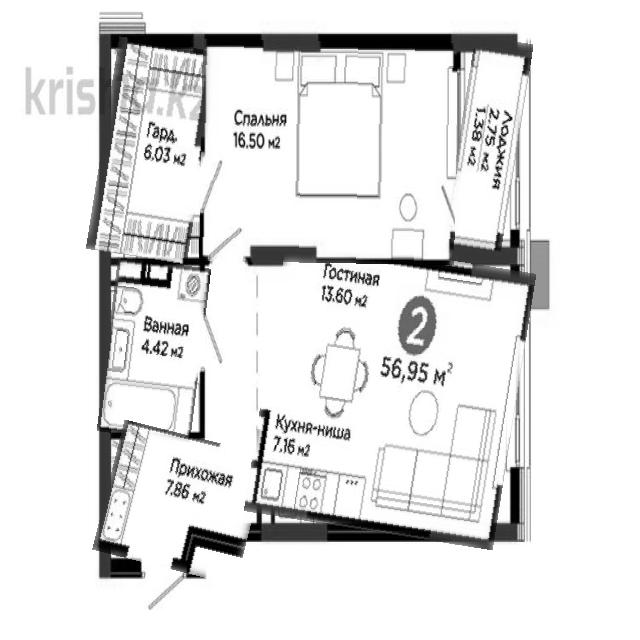balcony: (450, 37, 525, 258)
bathroom: (102, 259, 206, 440)
hallway: (99, 428, 261, 578)
living_room: (200, 40, 457, 264)
other: (94, 40, 212, 261)
studio: (254, 244, 526, 542)
